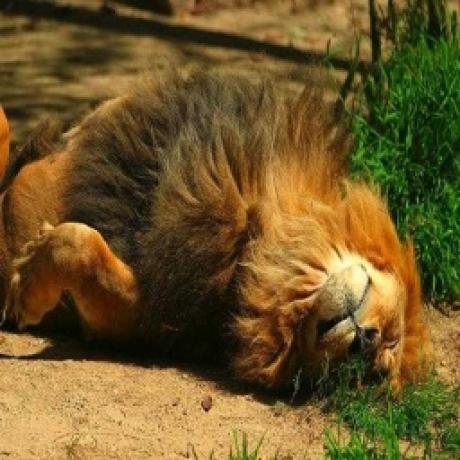Lion: (0, 59, 423, 407)
